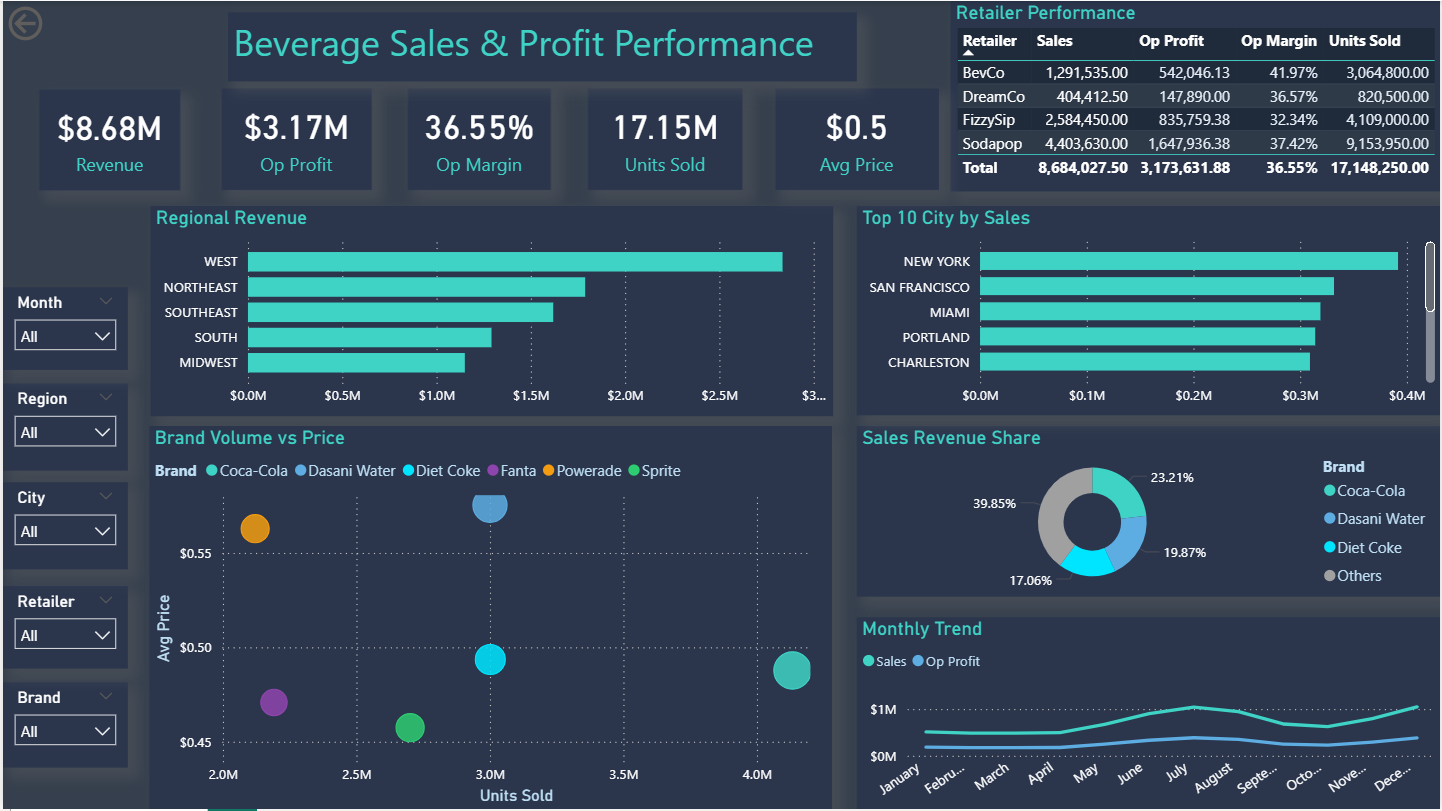

This screenshot's page, from the dashboard's own definition file:
{"tool":"powerbi","page":{"name":"Performance Analysis","canvas":[1280,720],"ordinal":0},"visuals":[{"type":"advanceCardE03760C5AB684758B56AA29F9E6C257B","fields":{"mainMeasure":["Sheet1.Quantity"]},"box":[521.2,78.4,137.5,90.5],"z":0},{"type":"advanceCardE03760C5AB684758B56AA29F9E6C257B","fields":{"mainMeasure":["Sheet1.Total Revenue"]},"box":[31.8,79.5,126,89.3],"z":1000},{"type":"advanceCardE03760C5AB684758B56AA29F9E6C257B","fields":{"mainMeasure":["Sheet1.Total Operating Profit"]},"box":[194.4,78.3,133.3,90.5],"z":2000},{"type":"advanceCardE03760C5AB684758B56AA29F9E6C257B","fields":{"mainMeasure":["Sheet1.Margin"]},"box":[360.7,78.3,127.2,90.5],"z":3000},{"type":"barChart","title":"Regional Revenue","fields":{"Category":["Sheet1.Region"],"Y":["Sheet1.Total Revenue"]},"box":[130.8,182.2,607.7,187.1],"z":4000},{"type":"donutChart","title":"Sales Revenue Share","fields":{"Y":["Sum(Brand Summary.Revenue)"],"Category":["Brand Summary.Brand Group"]},"box":[760.1,378.8,520,152],"z":5000},{"type":"scatterChart","title":"Brand Volume vs Price","fields":{"Series":["Sheet1.Beverage Brand"],"X":["Sheet1.Quantity"],"Y":["Sheet1.Avg Price"],"Size":["Sheet1.Total Operating Profit"]},"box":[130.4,378.7,607.9,341.7],"z":6000},{"type":"tableEx","title":"Retailer Performance","fields":{"Values":["Sheet1.Retailer","Sheet1.Total Revenue","Sheet1.Total Operating Profit","Sheet1.Margin","Sheet1.Quantity"]},"box":[844.2,0,436,169.8],"z":7000},{"type":"actionButton","box":[0,0,100,40],"z":8000},{"type":"barChart","title":"Top 10 City by Sales","fields":{"Category":["Sheet1.City"],"Y":["Sheet1.Total Revenue"]},"box":[760.2,182.5,520.1,186.6],"z":9000},{"type":"lineChart","title":"Monthly Trend","fields":{"Category":["Sheet1.Invoice Date.Variation.Date Hierarchy.Month"],"Y":["Sheet1.Total Revenue","Sheet1.Total Operating Profit"]},"box":[760.2,548.9,520.1,171.5],"z":10000},{"type":"advanceCardE03760C5AB684758B56AA29F9E6C257B","fields":{"mainMeasure":["Sheet1.Avg Price"]},"box":[688.5,78.3,145.5,90.5],"z":11000},{"type":"slicer","fields":{"Values":["Sheet1.Region"]},"box":[0,340.2,111,77.2],"z":12000},{"type":"slicer","fields":{"Values":["Sheet1.Beverage Brand"]},"box":[0,606.8,111,76],"z":13000},{"type":"slicer","fields":{"Values":["Sheet1.Invoice Date.Variation.Date Hierarchy.Month"]},"box":[0,254.6,111,73.6],"z":14000},{"type":"slicer","fields":{"Values":["Sheet1.Retailer"]},"box":[0,521.2,111,73.6],"z":15000},{"type":"textbox","box":[200.3,9.7,559.8,61.5],"z":16000},{"type":"slicer","fields":{"Values":["Sheet1.City"]},"box":[0,428.3,111,77.2],"z":17000}]}

Visuals, with their boxes in screenshot pixels (x1, y1, x2, y2), scaled from the page's 1280x720 canvas onto the 1442x811 screenshot:
advanceCardE03760C5AB684758B56AA29F9E6C257B - Sheet1.Quantity: <bbox>587, 88, 742, 190</bbox>
advanceCardE03760C5AB684758B56AA29F9E6C257B - Sheet1.Total Revenue: <bbox>36, 90, 178, 190</bbox>
advanceCardE03760C5AB684758B56AA29F9E6C257B - Sheet1.Total Operating Profit: <bbox>219, 88, 369, 190</bbox>
advanceCardE03760C5AB684758B56AA29F9E6C257B - Sheet1.Margin: <bbox>406, 88, 550, 190</bbox>
"Regional Revenue" barChart: <bbox>147, 205, 832, 416</bbox>
"Sales Revenue Share" donutChart: <bbox>856, 427, 1441, 598</bbox>
"Brand Volume vs Price" scatterChart: <bbox>147, 427, 832, 810</bbox>
"Retailer Performance" tableEx: <bbox>951, 0, 1441, 191</bbox>
actionButton: <bbox>0, 0, 113, 45</bbox>
"Top 10 City by Sales" barChart: <bbox>856, 206, 1441, 416</bbox>
"Monthly Trend" lineChart: <bbox>856, 618, 1441, 810</bbox>
advanceCardE03760C5AB684758B56AA29F9E6C257B - Sheet1.Avg Price: <bbox>776, 88, 940, 190</bbox>
slicer - Sheet1.Region: <bbox>0, 383, 125, 470</bbox>
slicer - Sheet1.Beverage Brand: <bbox>0, 683, 125, 769</bbox>
slicer - Sheet1.Invoice Date.Variation.Date Hierarchy.Month: <bbox>0, 287, 125, 370</bbox>
slicer - Sheet1.Retailer: <bbox>0, 587, 125, 670</bbox>
textbox: <bbox>226, 11, 856, 80</bbox>
slicer - Sheet1.City: <bbox>0, 482, 125, 569</bbox>
